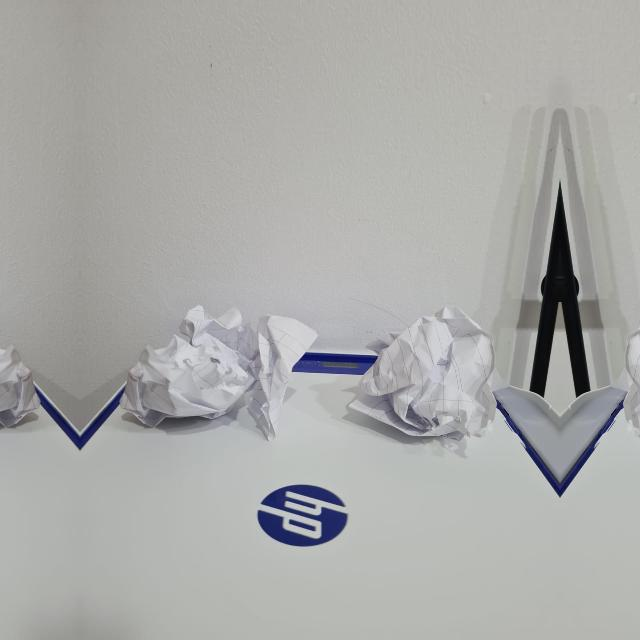paper: (124, 302, 314, 438), (364, 302, 501, 453), (0, 301, 35, 438), (619, 302, 640, 453)
